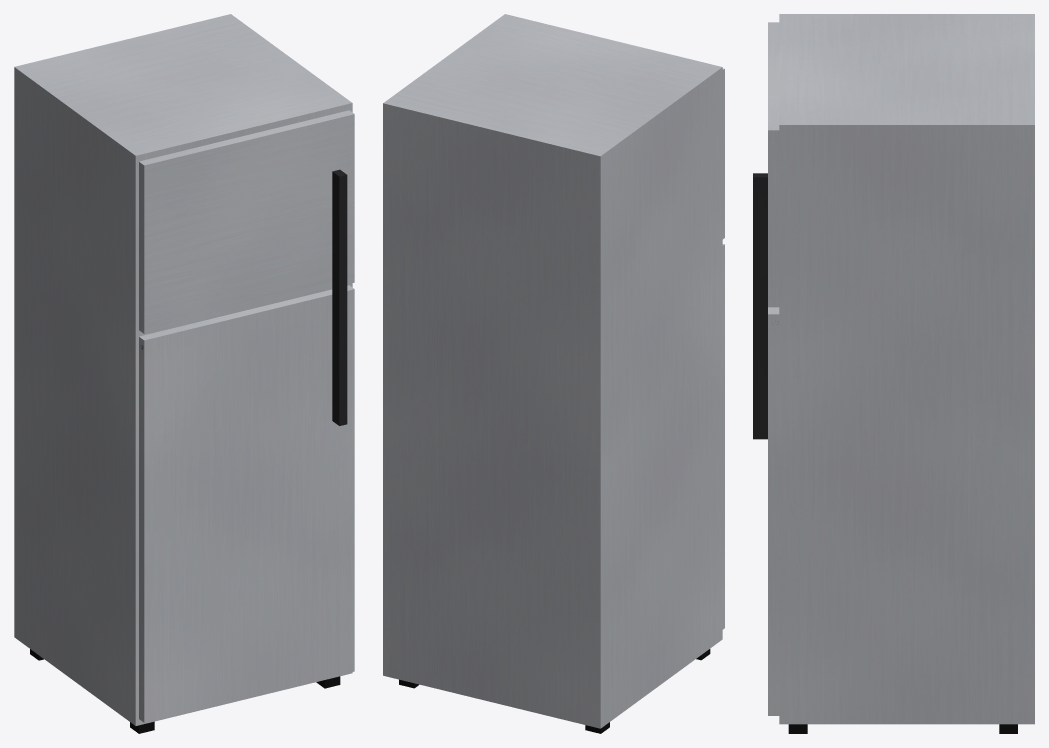
3 views of the same model, side by side, from view 1: azimuth 30°, elevation 25°; view 2: azimuth 150°, elevation 25°; view 3: azimuth 270°, elevation 25° (orthographic). The views are drawn at different scales.
Visible parts, largest first — view 1: Refrigerator_Game; view 2: Refrigerator_Game; view 3: Refrigerator_Game.
Boxes of the visible parts, x1,y1,x2,y2 form: Refrigerator_Game: (14, 14, 354, 733); Refrigerator_Game: (383, 14, 724, 733); Refrigerator_Game: (753, 14, 1034, 733).
Size of the model in its own units: 0.7 by 1.8 by 0.75.
3 materials, 3 textured.
